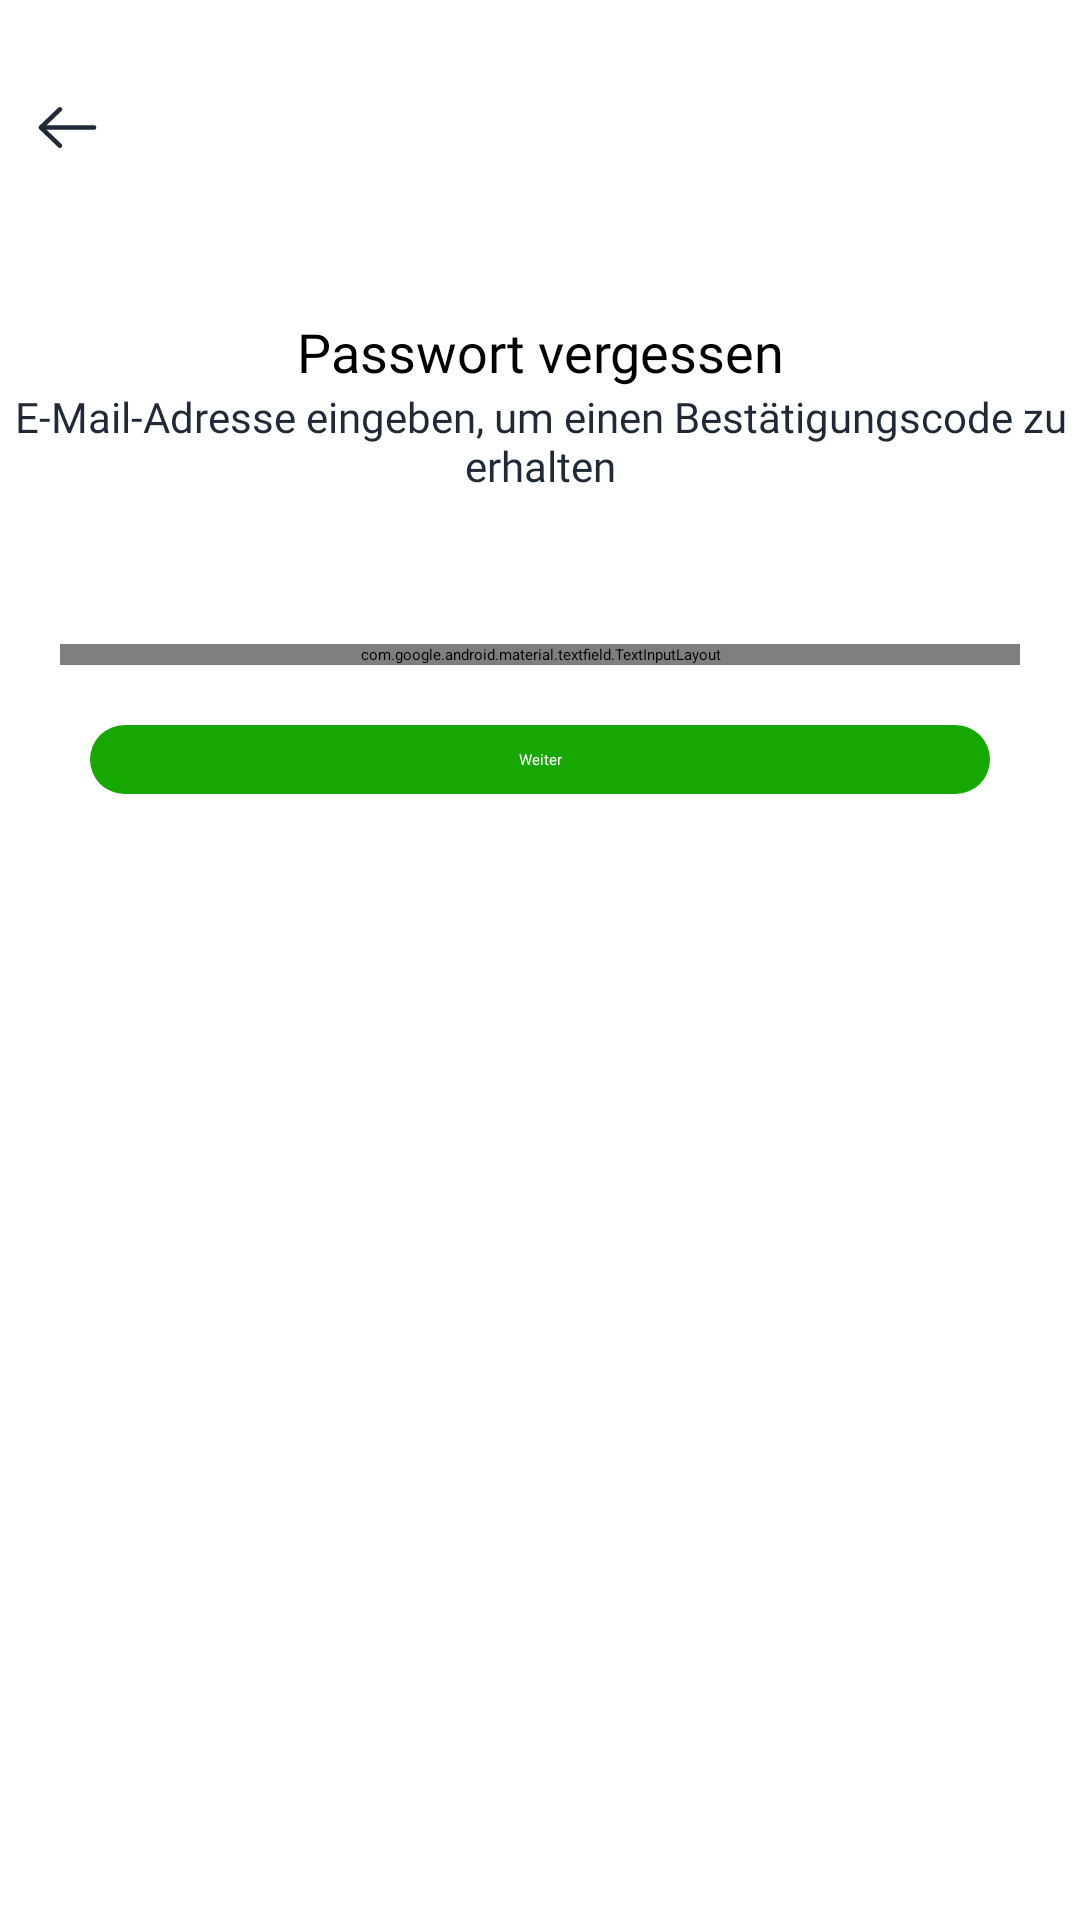

Screen size 1080px×1920px. Icon name, then its box in pixels as (x1, y1, x2, y2):
back: (38, 107, 97, 148)
